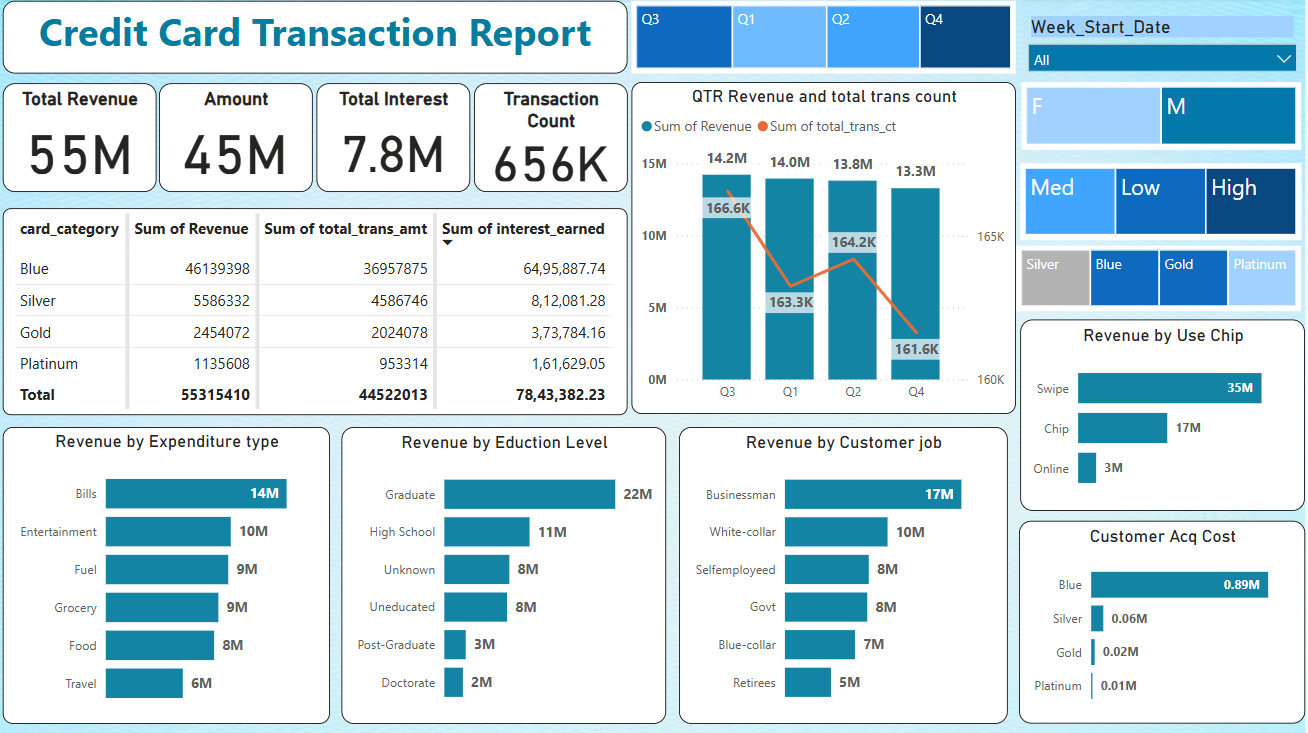

What the dashboard file says about the page in this screenshot:
{"tool":"powerbi","page":{"name":"Page 2","canvas":[1280,720],"ordinal":1},"visuals":[{"type":"textbox","box":[3.8,3.8,611.2,71.2],"z":0},{"type":"lineStackedColumnComboChart","title":"QTR Revenue and total trans count","fields":{"Y2":["Sum(public cc_detail.total_trans_ct)"],"Y":["Sum(public cc_detail.Revenue)"],"Category":["public cc_detail.qtr"]},"box":[618.8,83.8,376.2,325],"z":1000},{"type":"clusteredBarChart","title":" Revenue by Expenditure type","fields":{"Category":["public cc_detail.exp_type"],"Y":["Sum(public cc_detail.Revenue)"]},"box":[3.8,421.2,320,290],"z":2000},{"type":"clusteredBarChart","title":" Revenue by Eduction Level","fields":{"Y":["Sum(public cc_detail.Revenue)"],"Category":["public cust_detail.education_level"]},"box":[335,421.2,317.5,290],"z":3000},{"type":"clusteredBarChart","title":" Revenue by Customer job","fields":{"Y":["Sum(public cc_detail.Revenue)"],"Category":["public cust_detail.customer_job"]},"box":[665,421.2,321.2,290],"z":4000},{"type":"card","title":"Total Interest","fields":{"Values":["Sum(public cc_detail.interest_earned)"]},"box":[311,84,150,106],"z":5000},{"type":"card","title":"Total Revenue","fields":{"Values":["Sum(public cc_detail.Revenue)"]},"box":[4,84,150,106],"z":6000},{"type":"card","title":"Amount","fields":{"Values":["Sum(public cc_detail.total_trans_amt)"]},"box":[157,84,150,106],"z":7000},{"type":"slicer","fields":{"Values":["public cc_detail.week_start_date"]},"box":[83.8,326.2,240,67.5],"z":8000},{"type":"treemap","fields":{"Values":["Avg(public cc_detail.client_num)"],"Group":["public cust_detail.gender"]},"box":[1000,83.8,273.8,66.2],"z":9000},{"type":"tableEx","fields":{"Values":["public cc_detail.card_category","Sum(public cc_detail.Revenue)","Sum(public cc_detail.total_trans_amt)","Sum(public cc_detail.interest_earned)"]},"box":[3.8,206.2,611.2,202.5],"z":10000},{"type":"treemap","fields":{"Values":["Avg(public cc_detail.client_num)"],"Group":["public cust_detail.IncomeGroup"]},"box":[998.8,162.5,275,75],"z":11000},{"type":"card","title":"Transaction  Count","fields":{"Values":["Sum(public cc_detail.total_trans_ct)"]},"box":[465,84,150,106],"z":12000},{"type":"slicer","fields":{"Values":["public cc_detail.week_start_date"]},"box":[995,12.5,285,71.2],"z":13000},{"type":"treemap","fields":{"Group":["public cc_detail.card_category"],"Values":["Avg(public cc_detail.client_num)"]},"box":[995,243.8,278.8,63.8],"z":14000},{"type":"barChart","title":"Revenue by Use Chip","fields":{"Category":["public cc_detail.use_chip"],"Y":["Sum(public cc_detail.Revenue)"]},"box":[998.8,315,278.8,187.5],"z":15000},{"type":"barChart","title":"Customer Acq Cost","fields":{"Category":["public cc_detail.card_category"],"Y":["Sum(public cc_detail.customer_acq_cost)"]},"box":[997.5,512.5,280,198.8],"z":16000},{"type":"treemap","fields":{"Group":["public cc_detail.qtr"],"Values":["Avg(public cc_detail.Revenue)"]},"box":[618.8,3.8,376.2,71.2],"z":17000}]}

Visuals, with their boxes in screenshot pixels (x1, y1, x2, y2), scaled from the page's 1280x720 canvas onto the 1308x733 screenshot:
textbox: 4 4 628 76
"QTR Revenue and total trans count" lineStackedColumnComboChart: 632 85 1017 416
" Revenue by Expenditure type" clusteredBarChart: 4 429 331 724
" Revenue by Eduction Level" clusteredBarChart: 342 429 667 724
" Revenue by Customer job" clusteredBarChart: 680 429 1008 724
"Total Interest" card: 318 86 471 193
"Total Revenue" card: 4 86 157 193
"Amount" card: 160 86 314 193
slicer - public cc_detail.week_start_date: 86 332 331 401
treemap - Avg(public cc_detail.client_num) x public cust_detail.gender: 1022 85 1302 153
tableEx - public cc_detail.card_category x Sum(public cc_detail.Revenue): 4 210 628 416
treemap - Avg(public cc_detail.client_num) x public cust_detail.IncomeGroup: 1021 165 1302 242
"Transaction  Count" card: 475 86 628 193
slicer - public cc_detail.week_start_date: 1017 13 1307 85
treemap - public cc_detail.card_category x Avg(public cc_detail.client_num): 1017 248 1302 313
"Revenue by Use Chip" barChart: 1021 321 1306 512
"Customer Acq Cost" barChart: 1019 522 1305 724
treemap - public cc_detail.qtr x Avg(public cc_detail.Revenue): 632 4 1017 76
